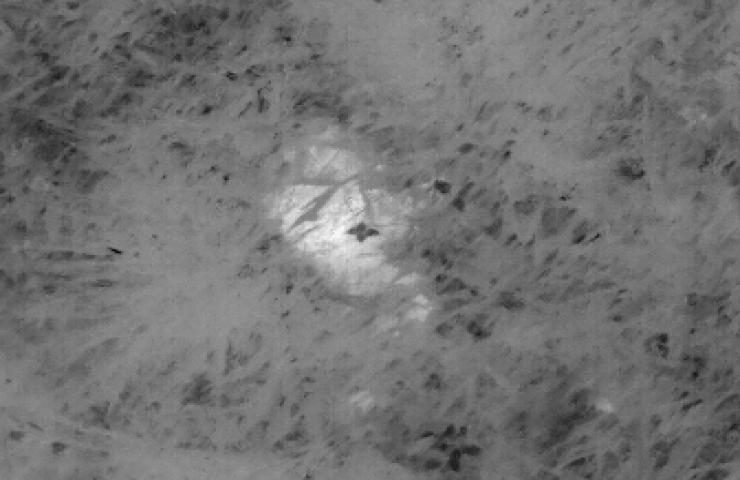landmines: (276, 140, 433, 289)
